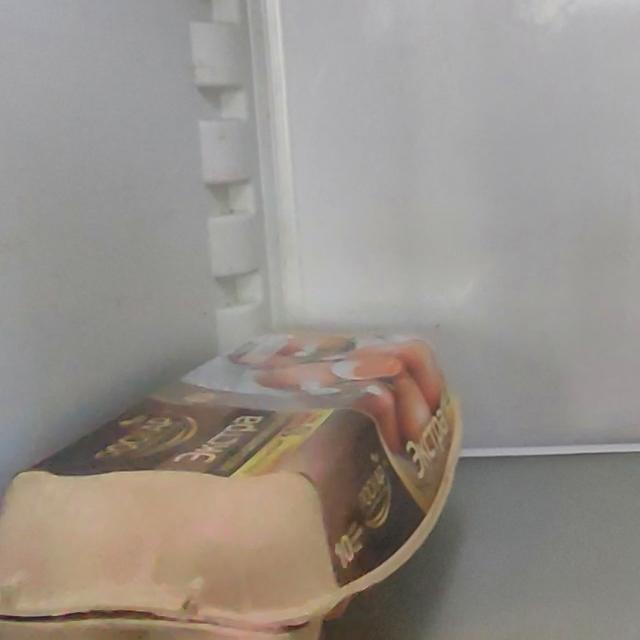egg: (0, 310, 461, 640)
